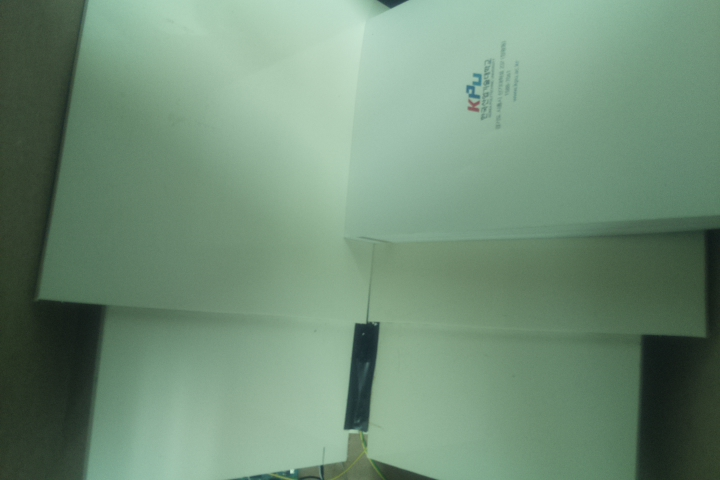book: (343, 1, 720, 247)
